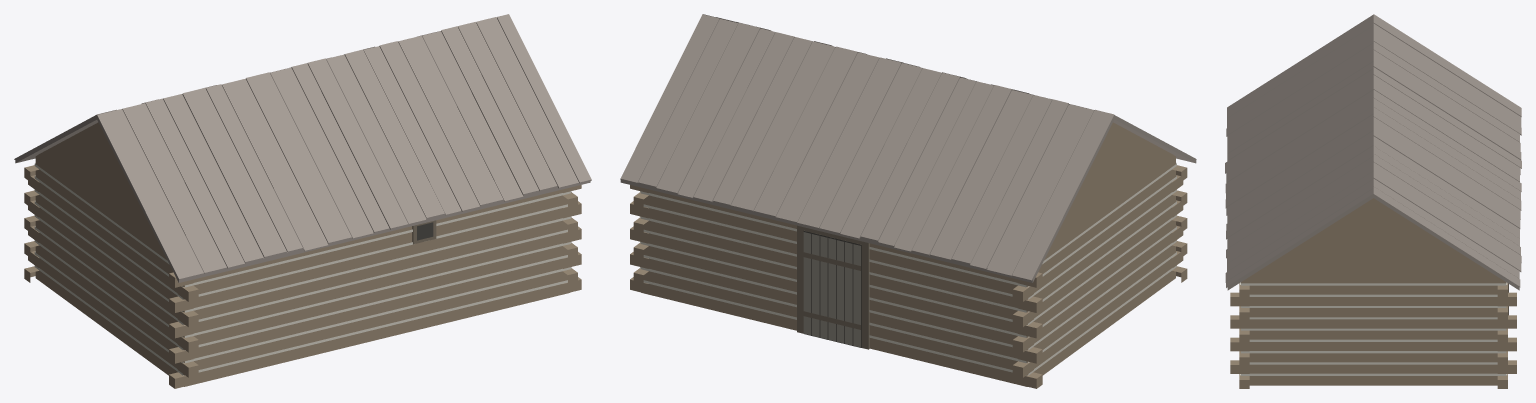
File: wolf_point_tavern_stable__stable_1831.glb
The picture shows the model from 3 angles, left to right: view 1: azimuth 30°, elevation 25°; view 2: azimuth 150°, elevation 25°; view 3: azimuth 270°, elevation 25°; orthographic projection. The views are drawn at different scales.
Visible parts, largest first — view 1: wolf_point_tavern_stable__stable_1831; view 2: wolf_point_tavern_stable__stable_1831; view 3: wolf_point_tavern_stable__stable_1831.
Part boxes in pixels (box(x1,y1,x2,y2)): wolf_point_tavern_stable__stable_1831: box(14, 14, 591, 388); wolf_point_tavern_stable__stable_1831: box(620, 14, 1196, 388); wolf_point_tavern_stable__stable_1831: box(1225, 14, 1521, 388).
Bounding box in the file's own units: 9.6 × 4.94 × 6.71.
